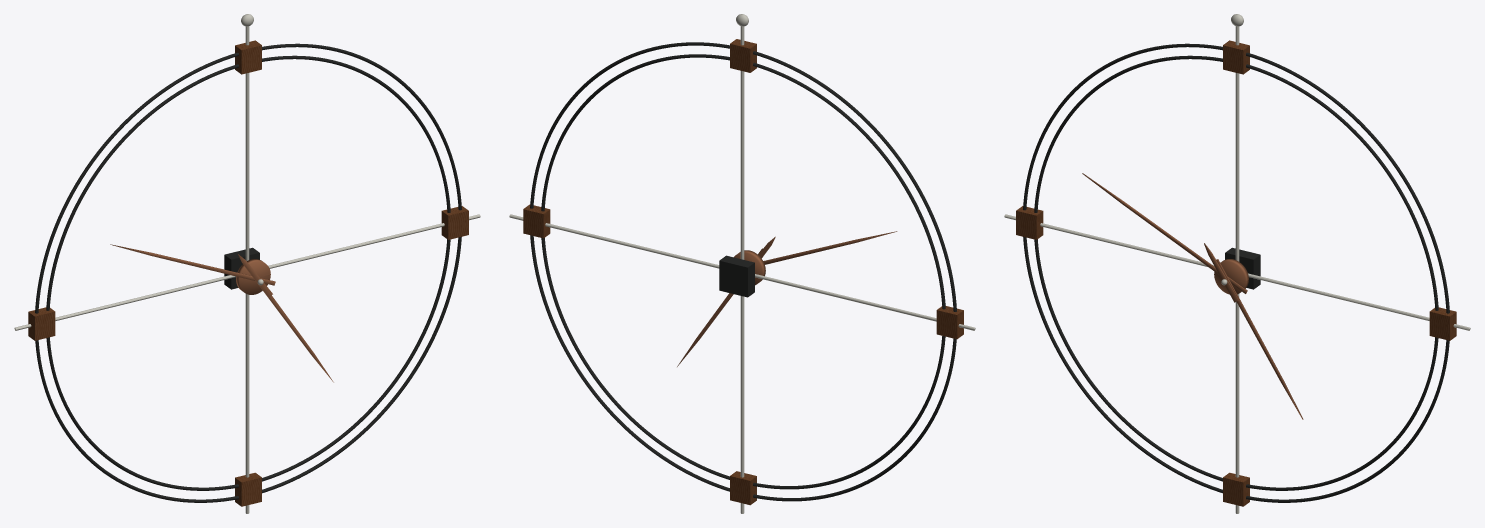
The model's file is O32_clock.glb.
The picture shows the model from 3 angles, left to right: view 1: azimuth 30°, elevation 25°; view 2: azimuth 150°, elevation 25°; view 3: azimuth 330°, elevation 25°; orthographic projection.
Visible parts, largest first — view 1: black coated steel, brushed nickel, solid walnut markers, walnut clock hands; view 2: black coated steel, brushed nickel, solid walnut markers, walnut clock hands; view 3: black coated steel, brushed nickel, solid walnut markers, walnut clock hands.
Boxes of the visible parts, left/top/right/bottom form: black coated steel: left=35, top=43, right=461, bottom=502; brushed nickel: left=14, top=14, right=480, bottom=513; solid walnut markers: left=28, top=40, right=468, bottom=506; walnut clock hands: left=110, top=244, right=333, bottom=382; black coated steel: left=530, top=42, right=956, bottom=501; brushed nickel: left=509, top=14, right=975, bottom=513; solid walnut markers: left=523, top=39, right=963, bottom=505; walnut clock hands: left=677, top=231, right=897, bottom=366; black coated steel: left=1023, top=43, right=1449, bottom=502; brushed nickel: left=1004, top=14, right=1470, bottom=513; solid walnut markers: left=1016, top=40, right=1456, bottom=506; walnut clock hands: left=1082, top=173, right=1303, bottom=419.
Bounding box in the file's own units: 1.04 × 1.07 × 0.0915.
Materials: 4 (1 with a texture image).
